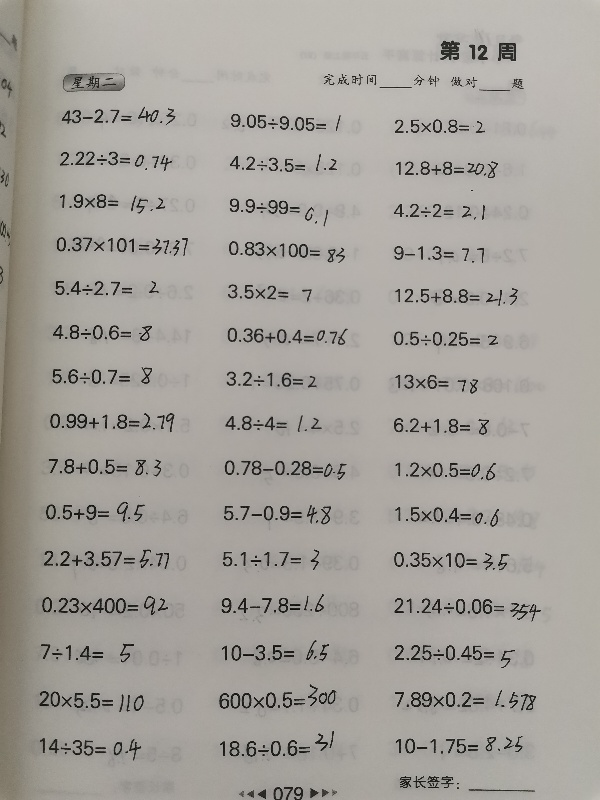equation: (391, 593, 544, 620), (391, 685, 539, 712), (214, 682, 340, 712), (391, 639, 518, 668), (38, 592, 172, 619), (39, 544, 173, 571), (52, 233, 191, 259), (46, 409, 179, 436), (217, 732, 338, 761), (220, 455, 350, 481), (391, 732, 526, 757), (34, 635, 142, 666), (391, 285, 522, 310), (37, 735, 145, 765), (218, 637, 333, 665), (52, 275, 168, 302), (224, 238, 349, 263), (220, 502, 335, 529), (389, 547, 512, 572), (223, 324, 351, 348), (57, 103, 178, 128), (45, 455, 165, 480), (42, 498, 149, 526), (225, 195, 332, 223), (56, 147, 175, 172), (221, 277, 323, 306), (219, 546, 324, 574), (227, 110, 344, 135), (35, 688, 147, 714), (56, 190, 168, 216), (226, 151, 340, 176), (392, 459, 500, 485), (391, 503, 502, 528), (393, 158, 502, 183), (49, 362, 156, 387), (217, 592, 327, 616), (390, 328, 502, 351), (49, 321, 155, 345), (222, 412, 326, 436), (389, 241, 488, 265), (389, 414, 492, 437), (390, 199, 488, 222), (391, 370, 481, 395), (222, 368, 320, 390), (392, 116, 489, 137)
